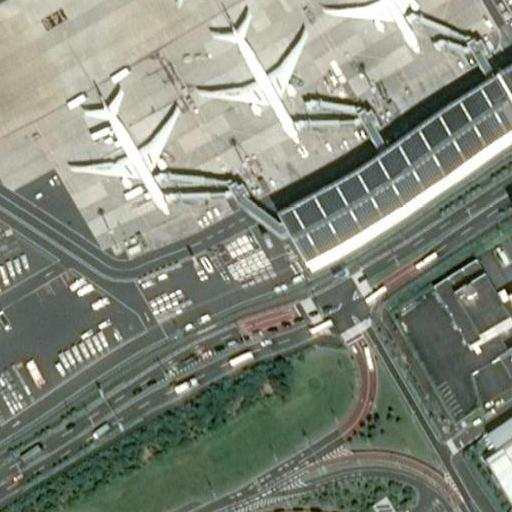Aircraft: (196, 12, 314, 145), (64, 94, 184, 215), (316, 0, 434, 54)
